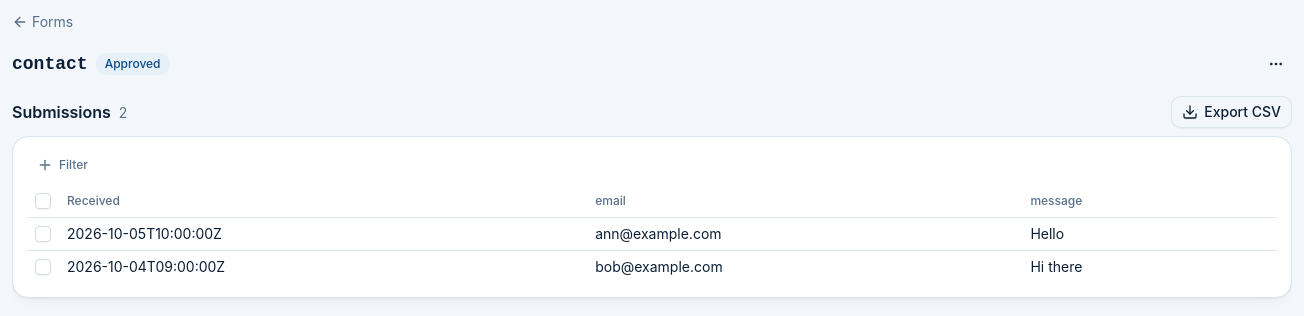
Scenario: FormPage › checks rows with a box each, and every row of the page from the header
This screenshot has width=1304, height=316.
Click the checkbox named "Select row 2" at point(43, 266), box [35,258,51,274]
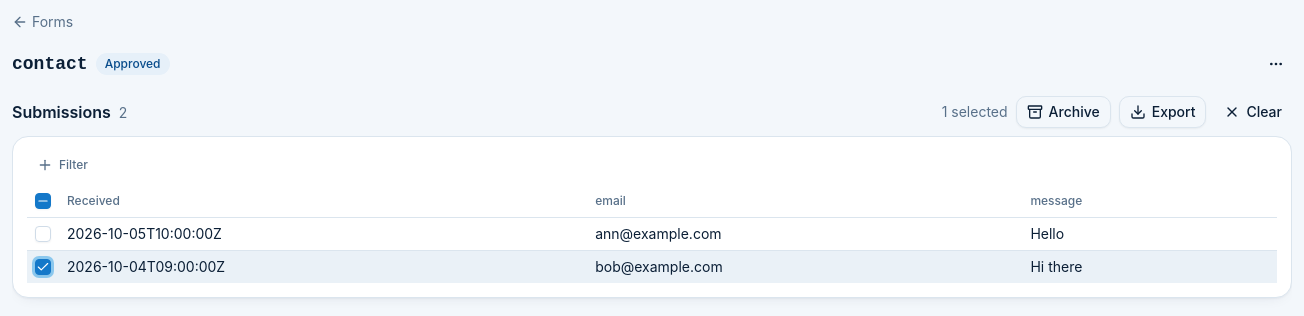
Now the text "1 selected" is shown, box [942,102,1008,122]
Click the checkbox named "Select all rows" at point(43, 201), box [35,193,51,209]
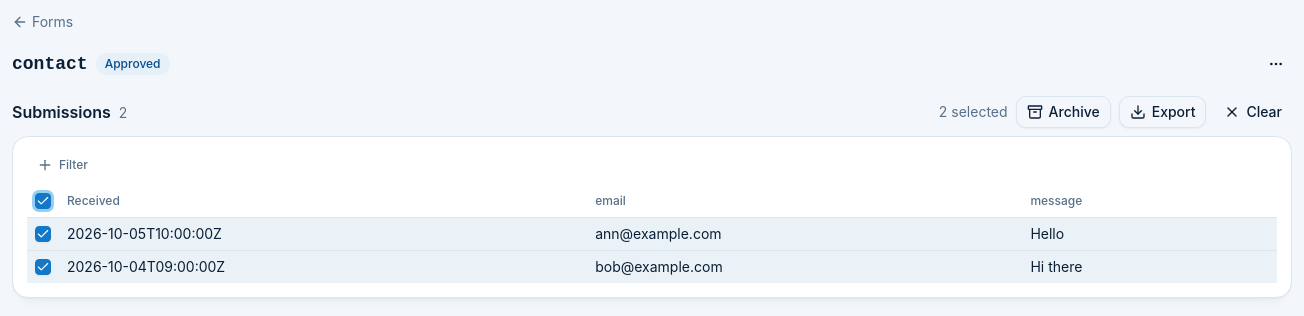
Now the text "2 selected" is shown, box [939,102,1008,122]
Click the checkbox named "Select all rows" at point(43, 201), box [35,193,51,209]
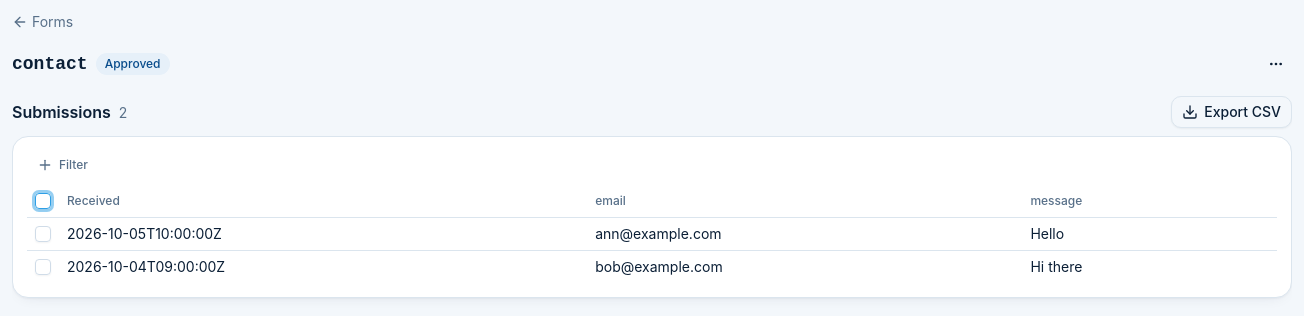
Now the text "selected" is gone
